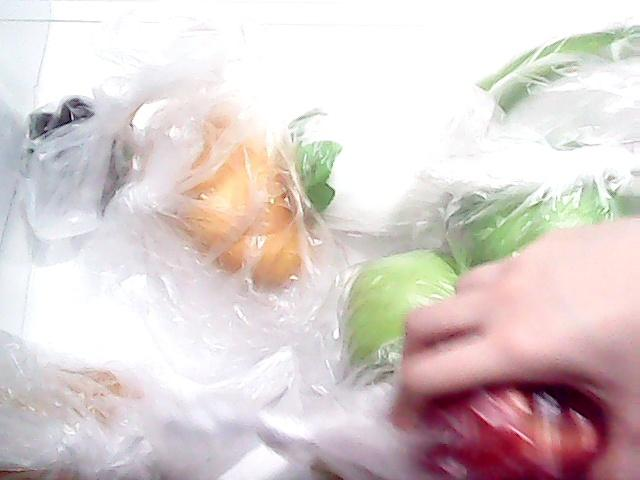apple: (420, 328, 640, 480), (343, 252, 472, 376)
cabbage: (440, 147, 640, 329)
grape: (24, 76, 144, 228)
lemon: (149, 99, 305, 293)
pepper: (450, 25, 638, 131)
potato: (2, 364, 146, 478)
radish: (292, 98, 506, 237)
